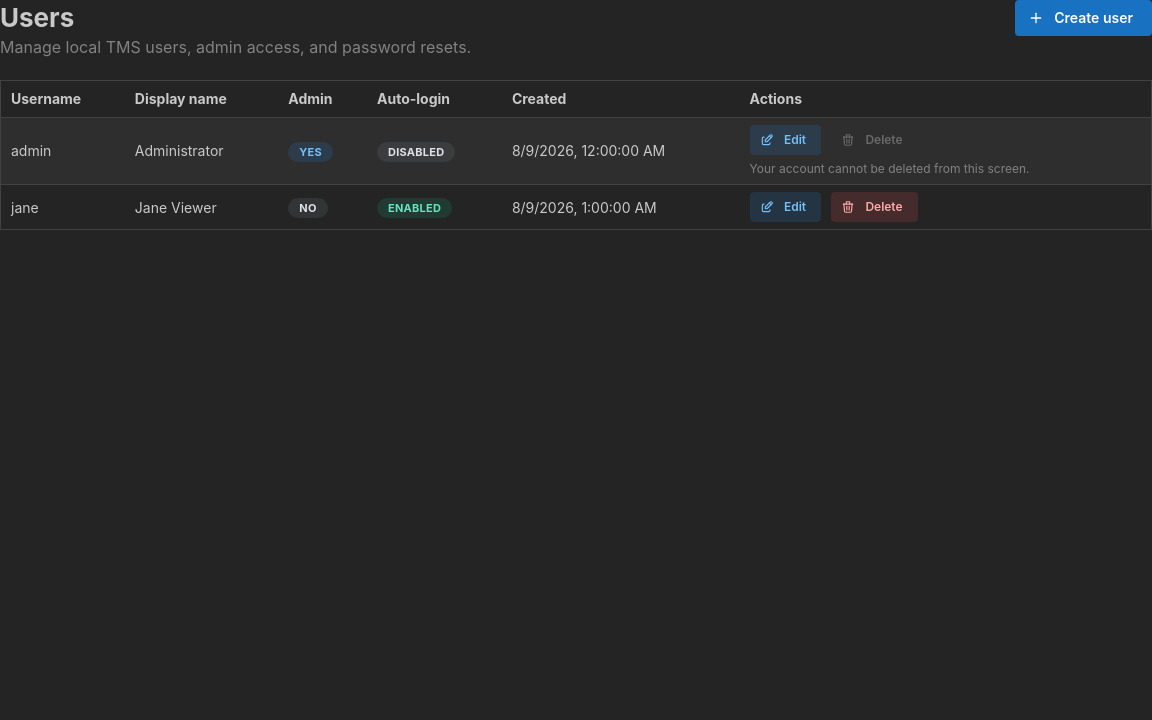
Test: UsersPage › waits for explicit delete confirmation and surfaces backend 409 errors
Expected: the text "jane" is shown, x1=0 y1=185 x2=125 y2=230
Click the button with aria-label "Delete jane" at [874, 207], box x1=831 y1=192 x2=918 y2=222
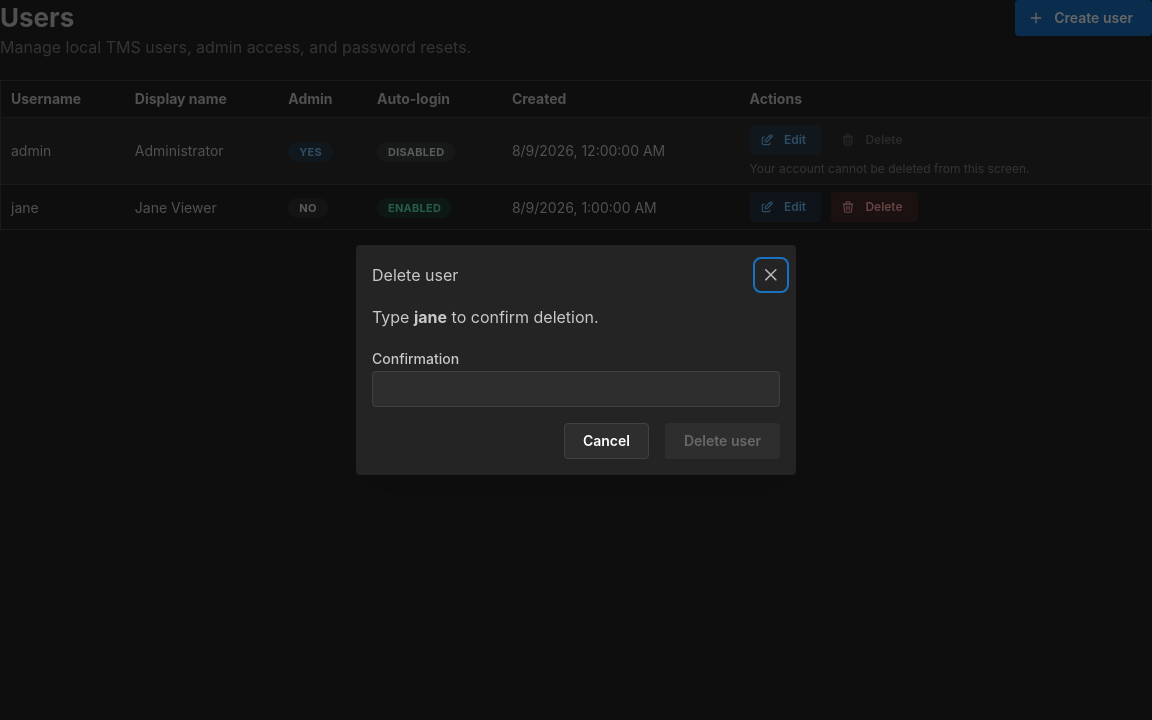
Expected: the button "Delete user" is disabled, x1=665 y1=423 x2=780 y2=459
Type "jane" into the field labelled "Confirmation" at [576, 389], box x1=372 y1=371 x2=780 y2=407
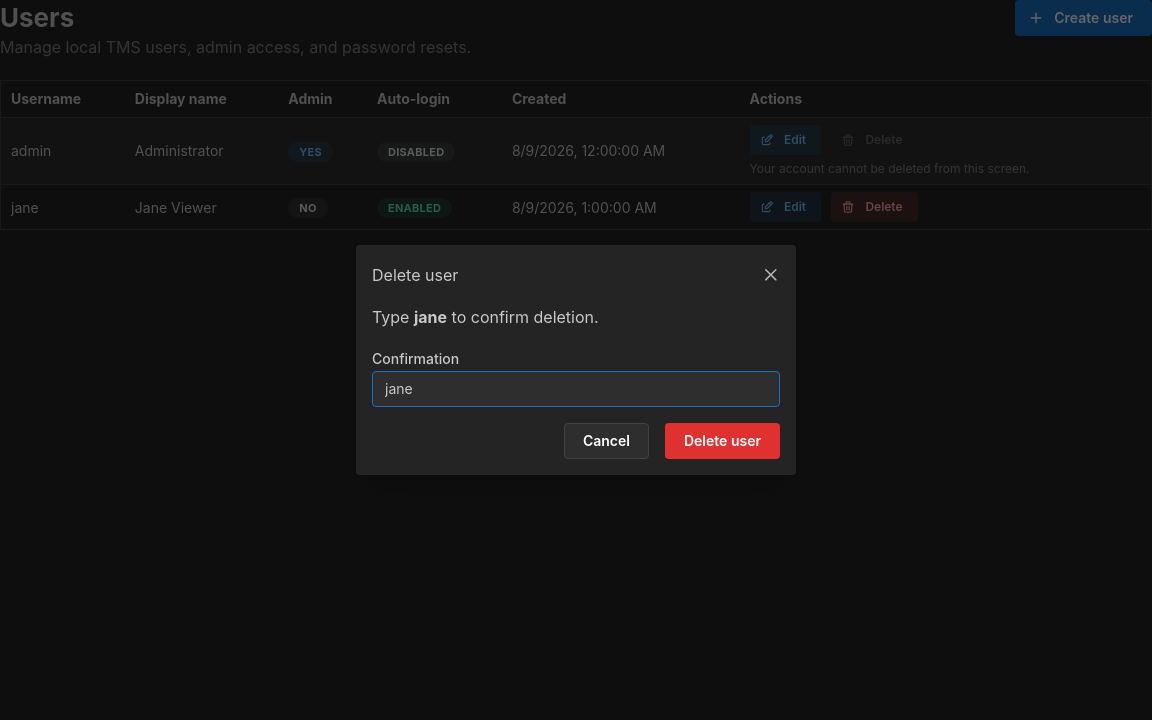
Expected: the button "Delete user" is enabled
Click the button "Delete user" at [722, 441], box x1=665 y1=423 x2=780 y2=459
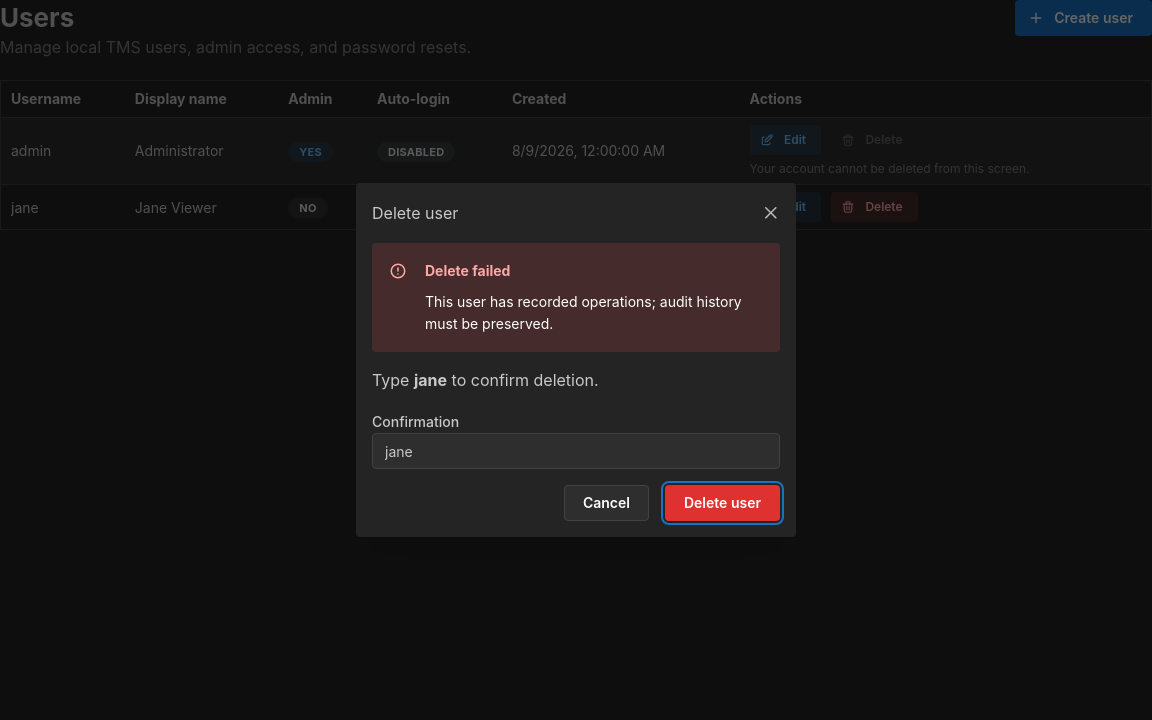
Expected: the text "This user has recorded operations; audit history must be preserved." is shown, x1=425 y1=291 x2=763 y2=335
